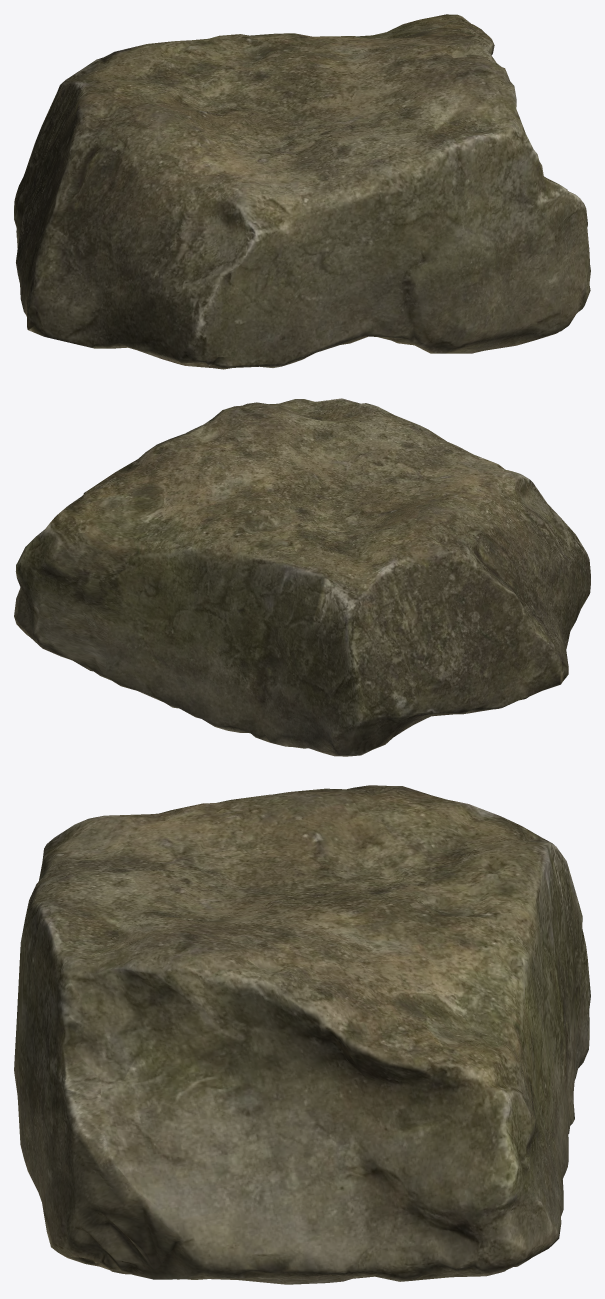
The model's file is rock_moss_02_r07.glb.
3 renders of one model, top to bottom at view 1: azimuth 30°, elevation 25°; view 2: azimuth 150°, elevation 25°; view 3: azimuth 270°, elevation 25°, orthographic. The views are drawn at different scales.
Visible parts, largest first — view 1: rock_moss_02_r07_LOD0; view 2: rock_moss_02_r07_LOD0; view 3: rock_moss_02_r07_LOD0.
Boxes of the visible parts, x1,y1,x2,y2 form: rock_moss_02_r07_LOD0: (14,14,590,369); rock_moss_02_r07_LOD0: (14,398,590,756); rock_moss_02_r07_LOD0: (14,785,590,1284).
Size of what is drawn, in the model's own units: 1.69 by 0.7447 by 1.22.
Materials: 1 (1 with a texture image).
